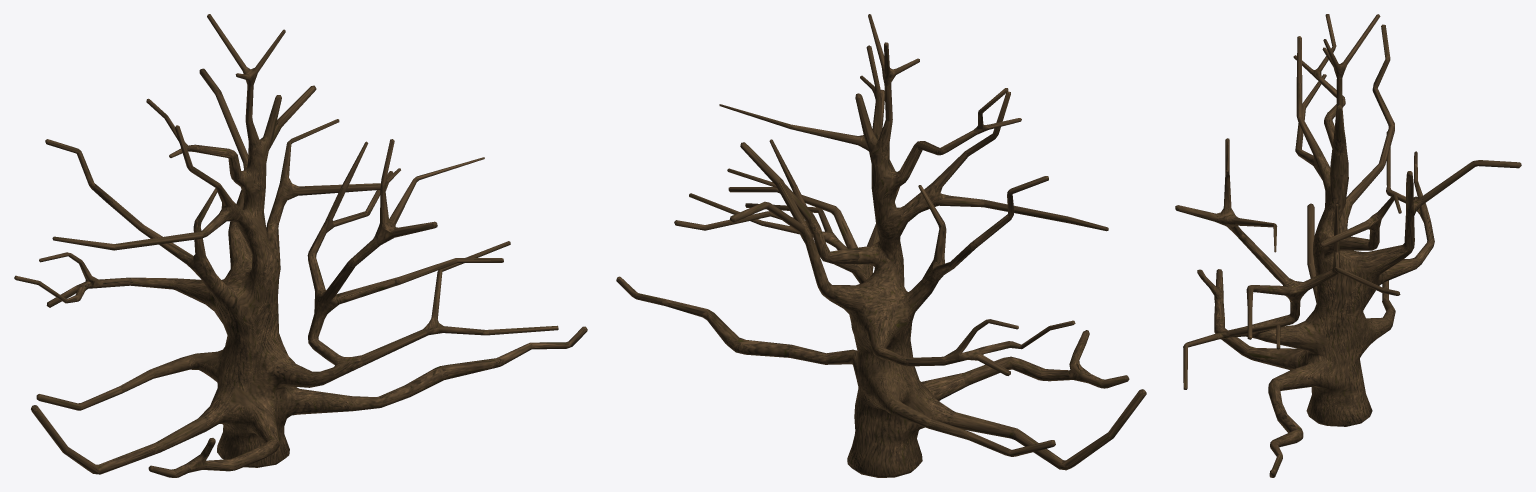
The model's file is Oak_Tree_01_Trunk.obj.
The picture shows the model from 3 angles, left to right: view 1: azimuth 30°, elevation 25°; view 2: azimuth 150°, elevation 25°; view 3: azimuth 270°, elevation 25°; orthographic projection. The views are drawn at different scales.
Visible parts, largest first — view 1: Oak_Tree_Trunk_Plane.115; view 2: Oak_Tree_Trunk_Plane.115; view 3: Oak_Tree_Trunk_Plane.115.
Part boxes in pixels (x1,y1,x2,y2): Oak_Tree_Trunk_Plane.115: (14, 14, 587, 477); Oak_Tree_Trunk_Plane.115: (616, 14, 1146, 477); Oak_Tree_Trunk_Plane.115: (1175, 14, 1521, 477).
Bounding box in the file's own units: 5.45 × 4.22 × 3.38.
Materials: 1 (1 with a texture image).
